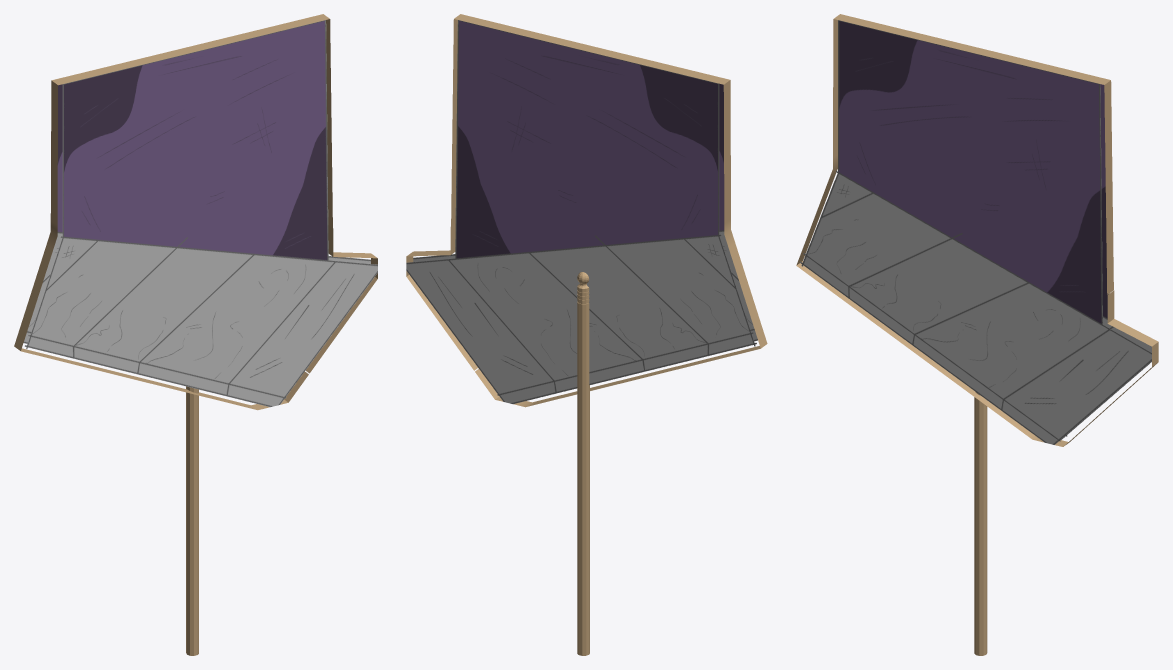
File: Escena2_Escenario01.fbx
3 views of the same model, side by side, from view 1: azimuth 30°, elevation 25°; view 2: azimuth 150°, elevation 25°; view 3: azimuth 330°, elevation 25° (orthographic).
Visible parts, largest first — view 1: SCN02; view 2: SCN02; view 3: SCN02.
Part boxes in pixels (bbox=[...]): SCN02: bbox=[14, 14, 377, 655]; SCN02: bbox=[406, 14, 767, 655]; SCN02: bbox=[796, 14, 1158, 655].
Bounding box in the file's own units: 0.1042 × 0.1694 × 0.00499.
